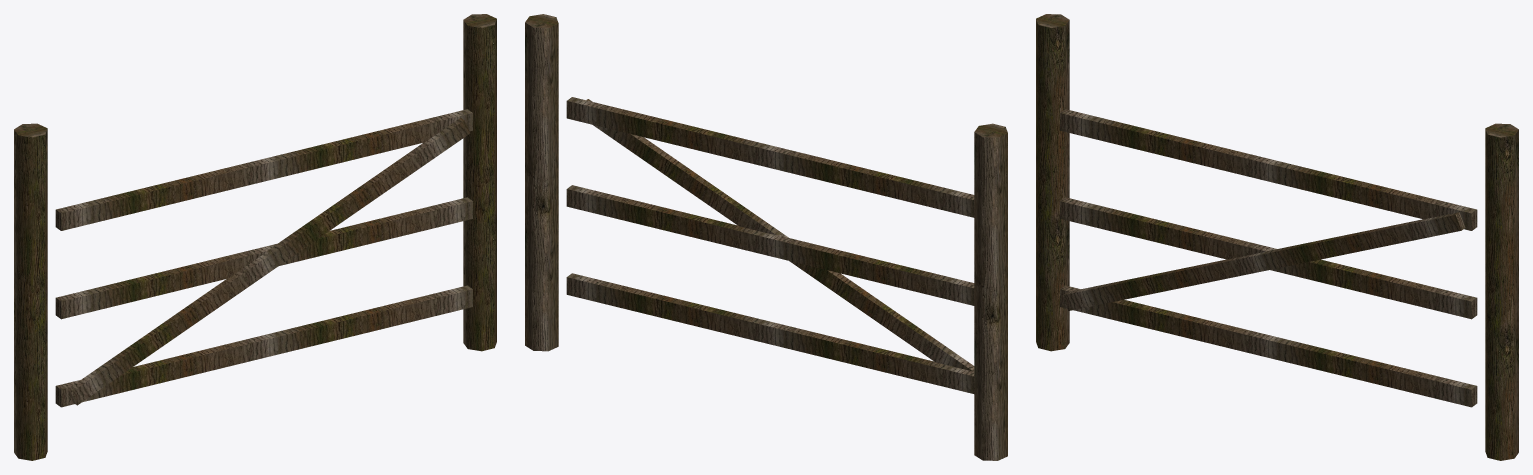
The model's file is gate_wood.glb.
The picture shows the model from 3 angles, left to right: view 1: azimuth 30°, elevation 25°; view 2: azimuth 150°, elevation 25°; view 3: azimuth 330°, elevation 25°; orthographic projection.
Parts seen in each view (by area): view 1: gate_wood; view 2: gate_wood; view 3: gate_wood.
Boxes of the visible parts, x1,y1,x2,y2 form: gate_wood: [14, 14, 496, 460]; gate_wood: [525, 14, 1007, 460]; gate_wood: [1036, 14, 1518, 460].
Size of the model in its own units: 2.56 by 1.65 by 0.22.
1 material, 1 textured.
